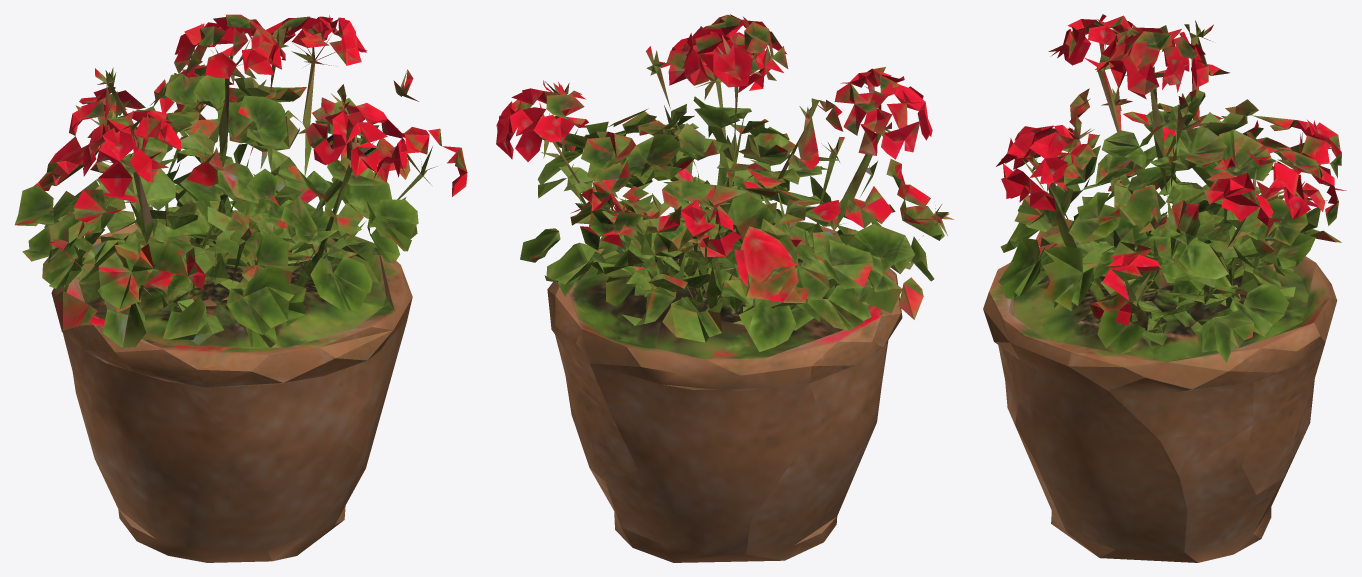
Rendered from flower_pot.glb.
3 views of the same model, side by side, from view 1: azimuth 30°, elevation 25°; view 2: azimuth 150°, elevation 25°; view 3: azimuth 270°, elevation 25° (orthographic). The views are drawn at different scales.
Parts seen in each view (by area): view 1: Mesh_0; view 2: Mesh_0; view 3: Mesh_0.
Boxes of the visible parts, <box> form: Mesh_0: <box>14,14,467,562</box>; Mesh_0: <box>496,14,953,562</box>; Mesh_0: <box>983,14,1346,562</box>.
Size of the model in its own units: 0.7944 by 0.9 by 0.613.
Materials: 1 (1 with a texture image).
